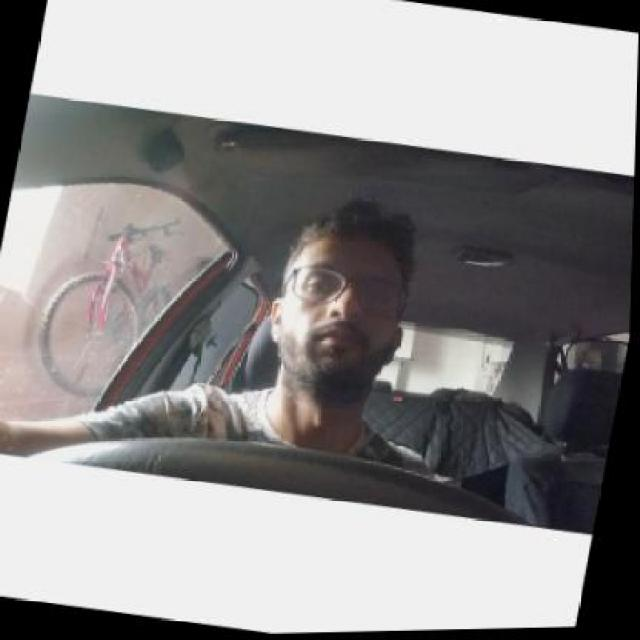person: (270, 189, 418, 400)
